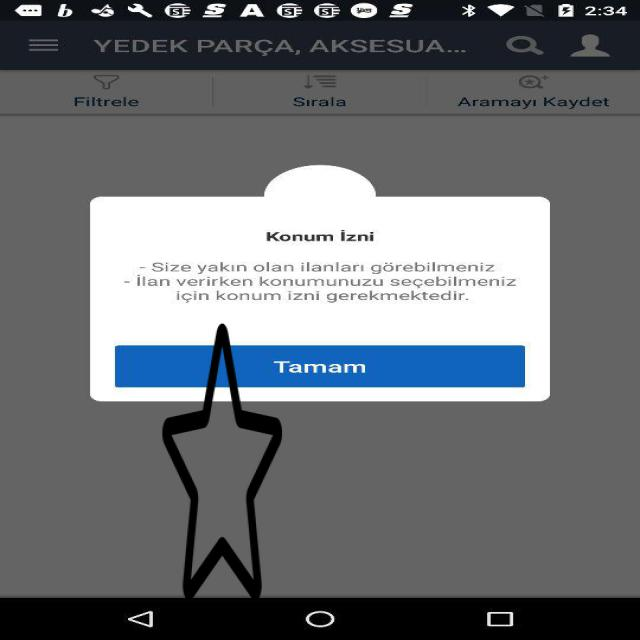forced continuity: (162, 317, 282, 607)
